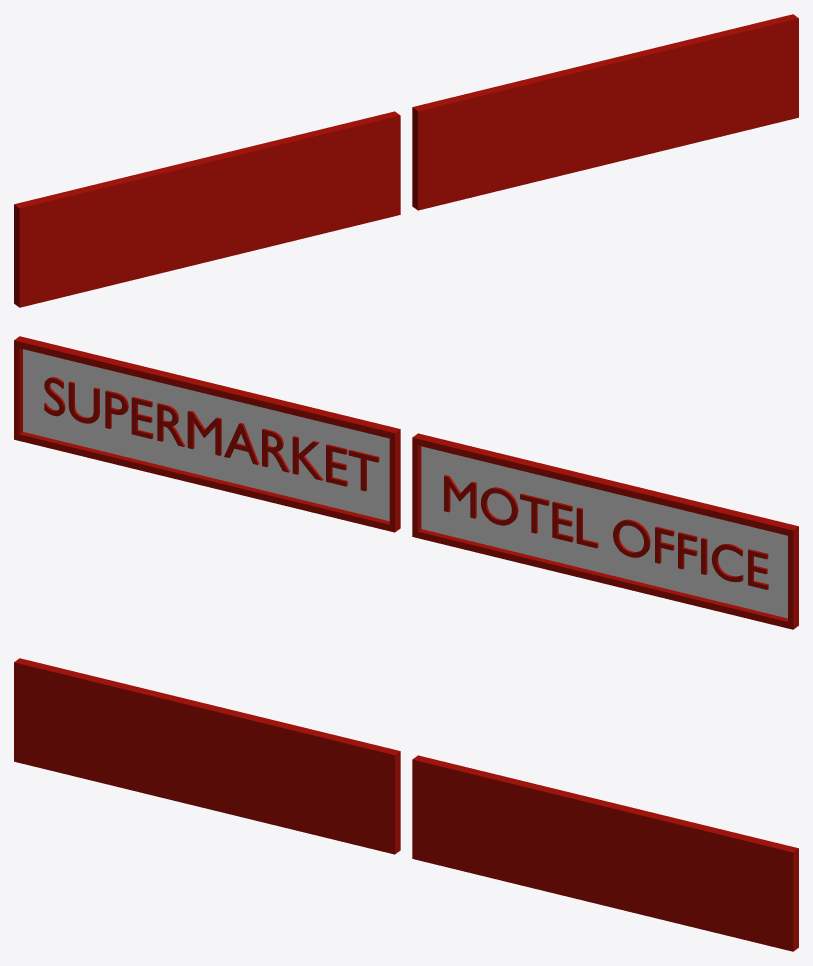
Rendered from Board.fbx.
The picture shows the model from 3 angles, top to bottom: view 1: azimuth 30°, elevation 25°; view 2: azimuth 150°, elevation 25°; view 3: azimuth 330°, elevation 25°; orthographic projection.
Parts seen in each view (by area): view 1: Cube, Cube.001; view 2: Cube.001, Cube, Text, Text.001; view 3: Cube, Cube.001.
Part boxes in pixels (x1,y1,x2,y2): Cube: (412, 14, 798, 210); Cube.001: (14, 111, 400, 307); Cube.001: (412, 433, 798, 629); Cube: (14, 336, 400, 532); Text: (44, 377, 379, 491); Text.001: (444, 475, 768, 589); Cube: (412, 755, 798, 951); Cube.001: (14, 658, 400, 854).
Size of the model in its own units: 12.85 by 1.56 by 0.1636.
